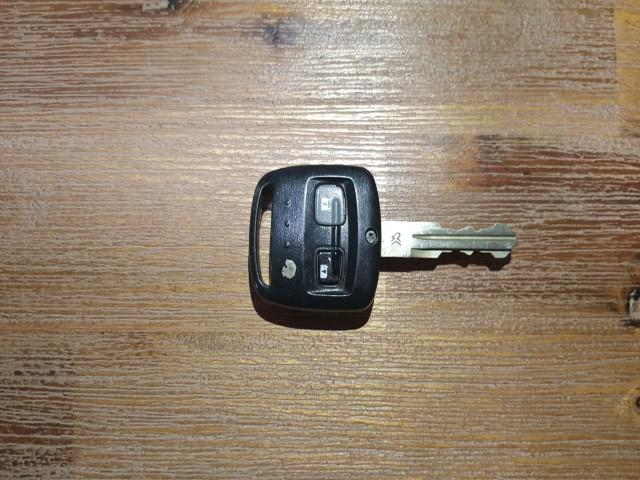key: (251, 163, 517, 480)
